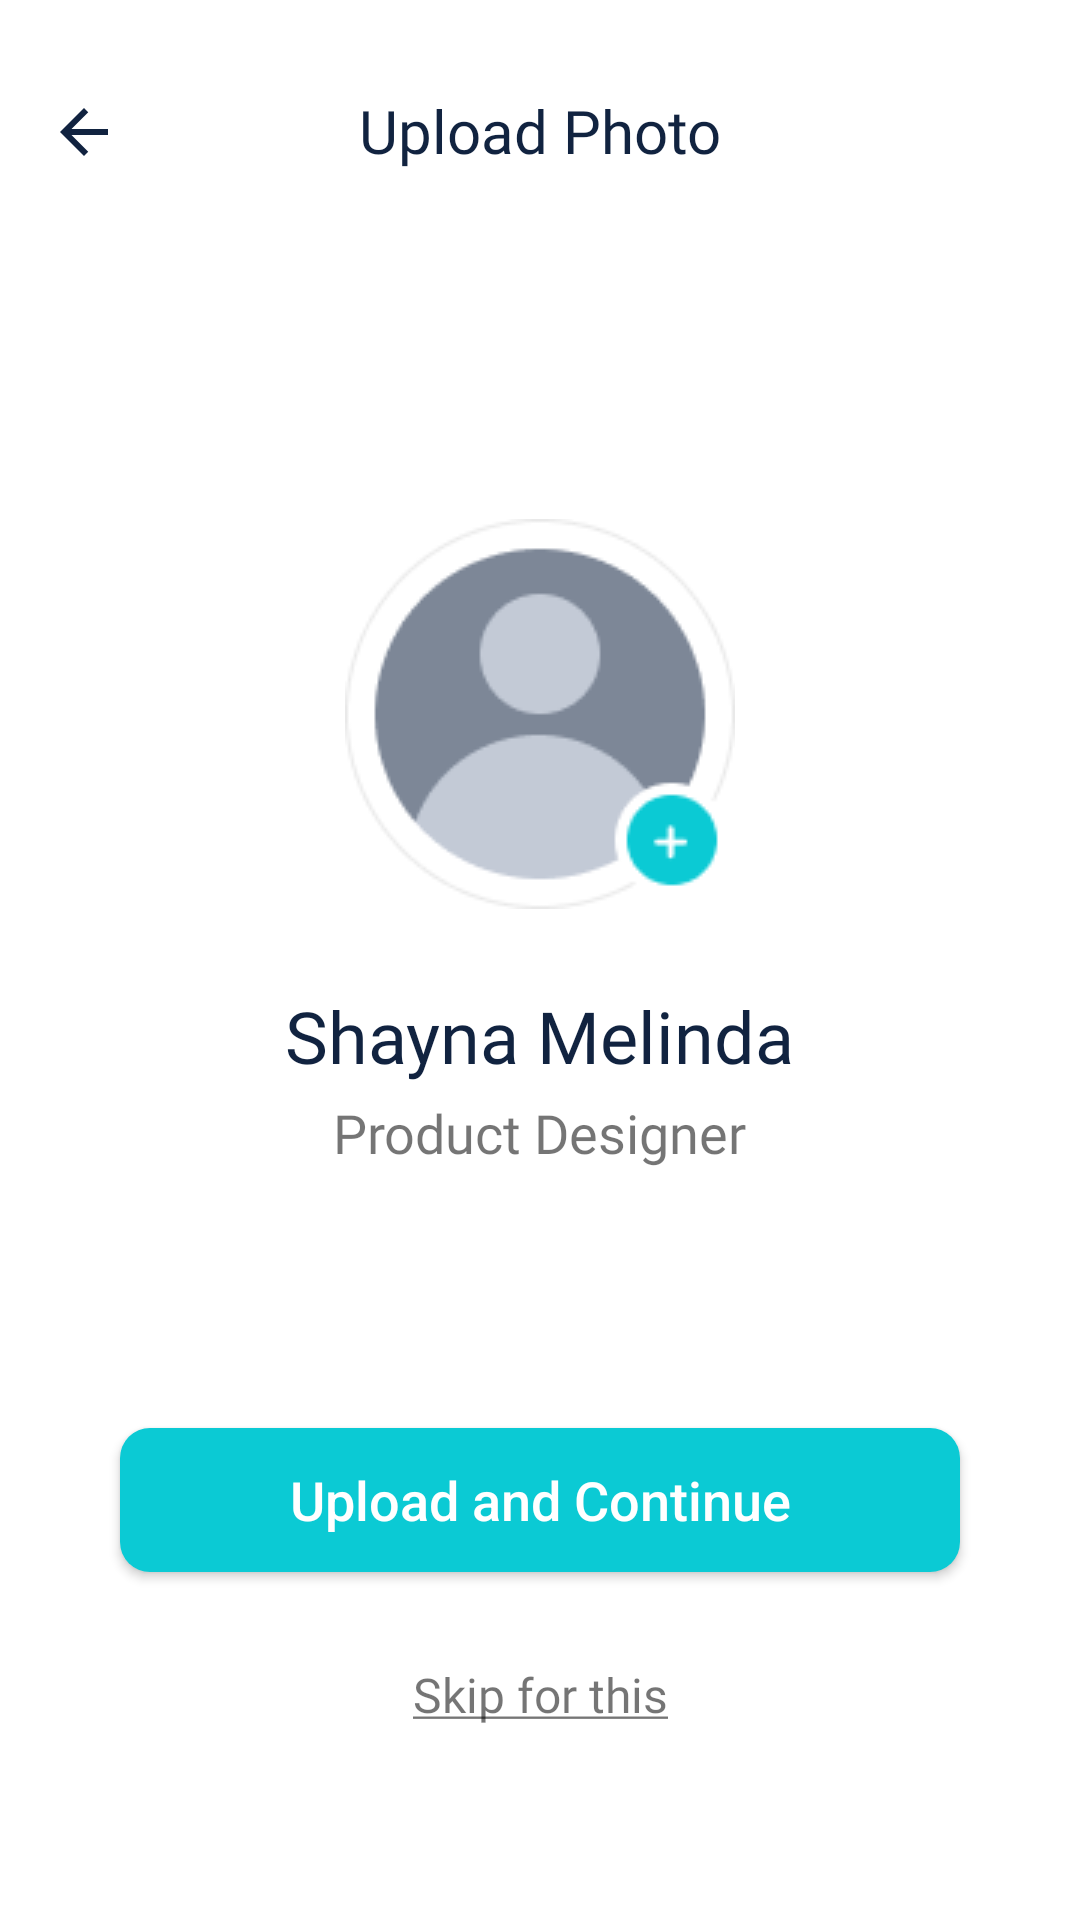

Point at icon controls on the screen. Image size 1080px x 1920px, points as (x=x, y=y).
arrow: (x=84, y=132)
base upload: (x=546, y=717)
